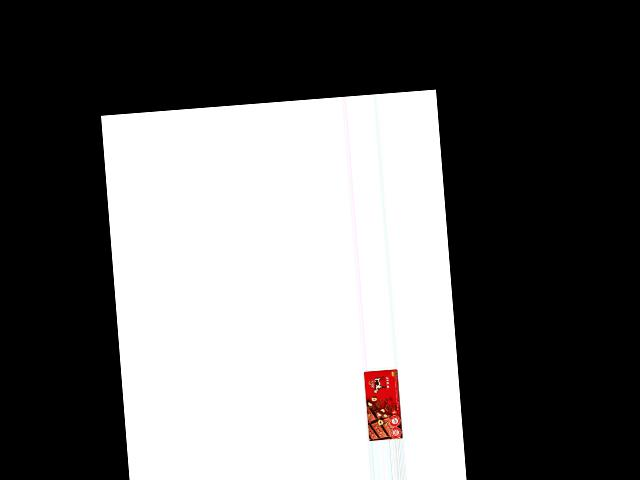chocolate: (363, 368, 403, 441)
